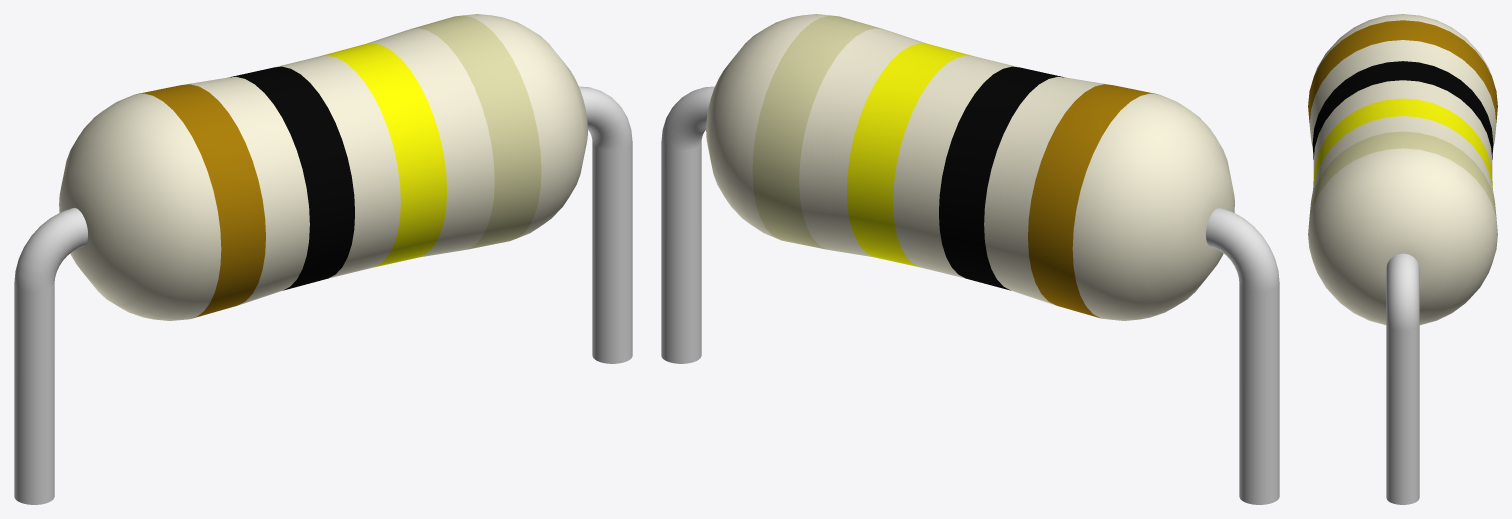
The model's file is Axial0_4_100K.fbx.
The picture shows the model from 3 angles, left to right: view 1: azimuth 30°, elevation 25°; view 2: azimuth 150°, elevation 25°; view 3: azimuth 270°, elevation 25°; orthographic projection. The views are drawn at different scales.
Parts seen in each view (by area): view 1: Axial0_4_100K; view 2: Axial0_4_100K; view 3: Axial0_4_100K.
Boxes of the visible parts, bbox=[...] form: Axial0_4_100K: bbox=[14, 14, 632, 504]; Axial0_4_100K: bbox=[661, 14, 1279, 504]; Axial0_4_100K: bbox=[1308, 14, 1497, 504].
Size of the model in its own units: 1.07 by 0.6072 by 0.3507.
